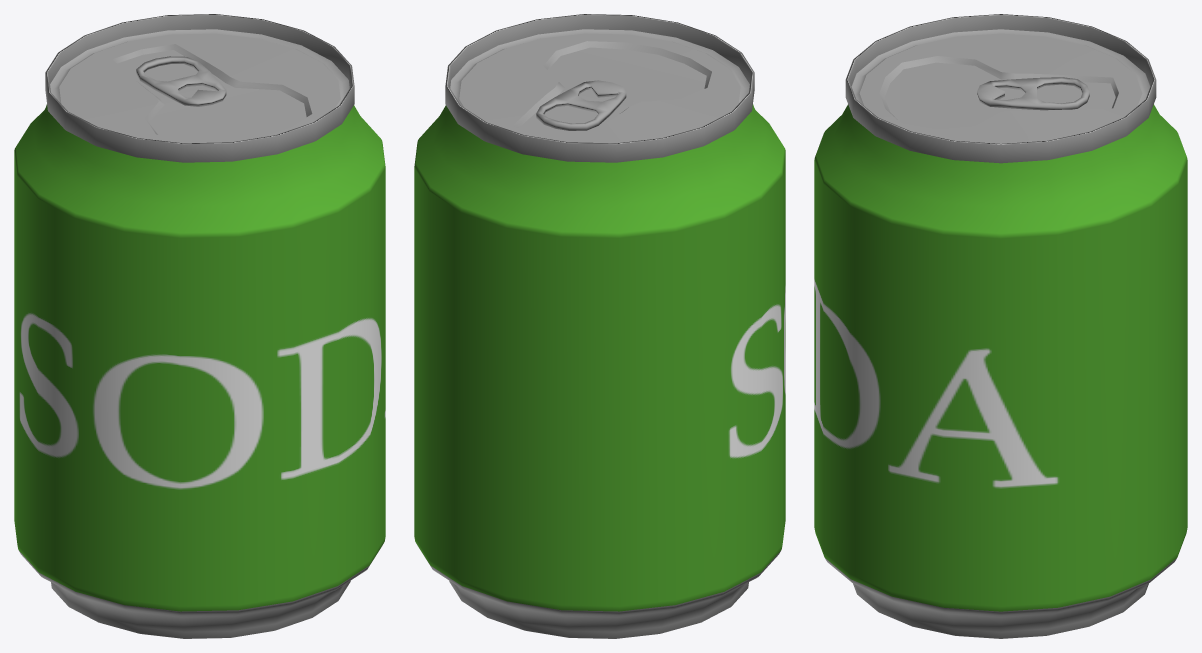
The model's file is Soda Can.fbx.
The picture shows the model from 3 angles, left to right: view 1: azimuth 30°, elevation 25°; view 2: azimuth 150°, elevation 25°; view 3: azimuth 270°, elevation 25°; orthographic projection.
Visible parts, largest first — view 1: polySurface4; view 2: polySurface4; view 3: polySurface4.
Boxes of the visible parts, box(x1,y1,x2,y2) form: polySurface4: box(14, 14, 385, 638); polySurface4: box(414, 14, 785, 638); polySurface4: box(814, 14, 1187, 638).
Bounding box in the file's own units: 0.9791 × 1.44 × 0.9791.
Materials: 1 (1 with a texture image).
